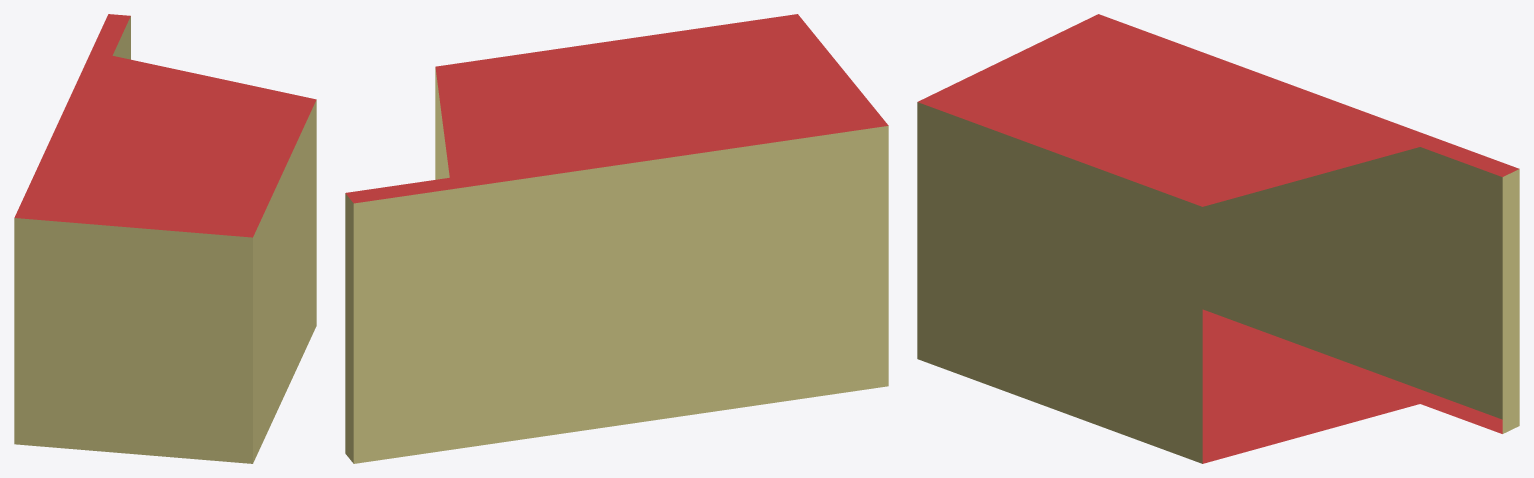
3 views of the same model, side by side, from view 1: azimuth 30°, elevation 25°; view 2: azimuth 150°, elevation 25°; view 3: azimuth 270°, elevation 25° (orthographic). The views are drawn at different scales.
Size of the model in its own units: 10.14 by 13.38 by 6.3.
